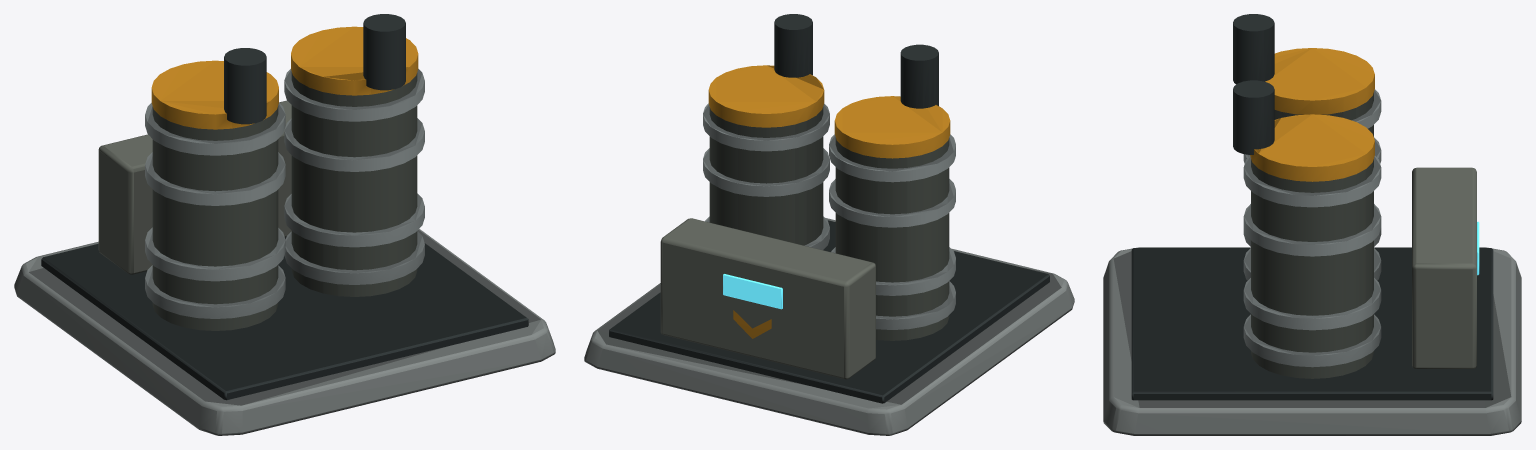
File: PowerPlant.glb
The picture shows the model from 3 angles, left to right: view 1: azimuth 30°, elevation 25°; view 2: azimuth 150°, elevation 25°; view 3: azimuth 270°, elevation 25°; orthographic projection. The views are drawn at different scales.
Visible parts, largest first — view 1: export_PowerPlant_Foundation; view 2: export_PowerPlant_Foundation; view 3: export_PowerPlant_Foundation.
Part boxes in pixels (x1,y1,x2,y2): export_PowerPlant_Foundation: (14, 14, 555, 435); export_PowerPlant_Foundation: (584, 14, 1074, 435); export_PowerPlant_Foundation: (1103, 14, 1521, 435).
Size of the model in its own units: 4.43 by 3.62 by 4.63.
